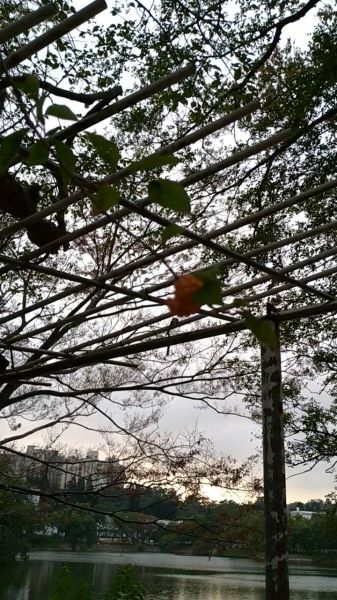eggs: (164, 268, 208, 322)
